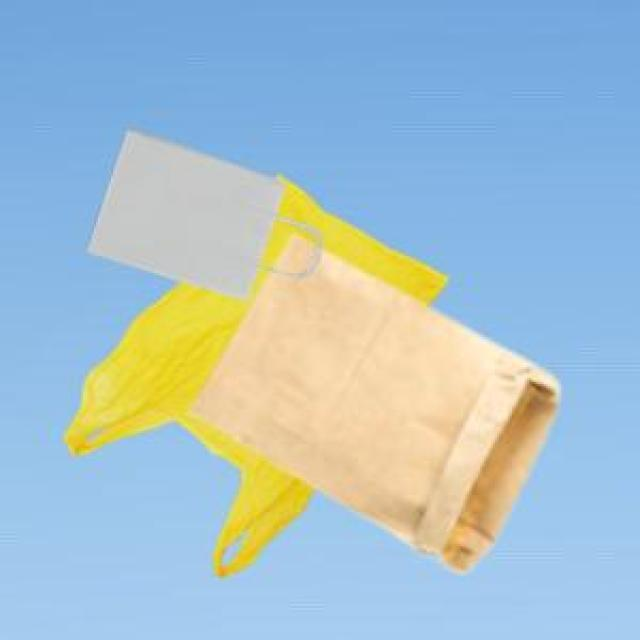paper: (188, 233, 553, 568), (83, 126, 312, 297)
